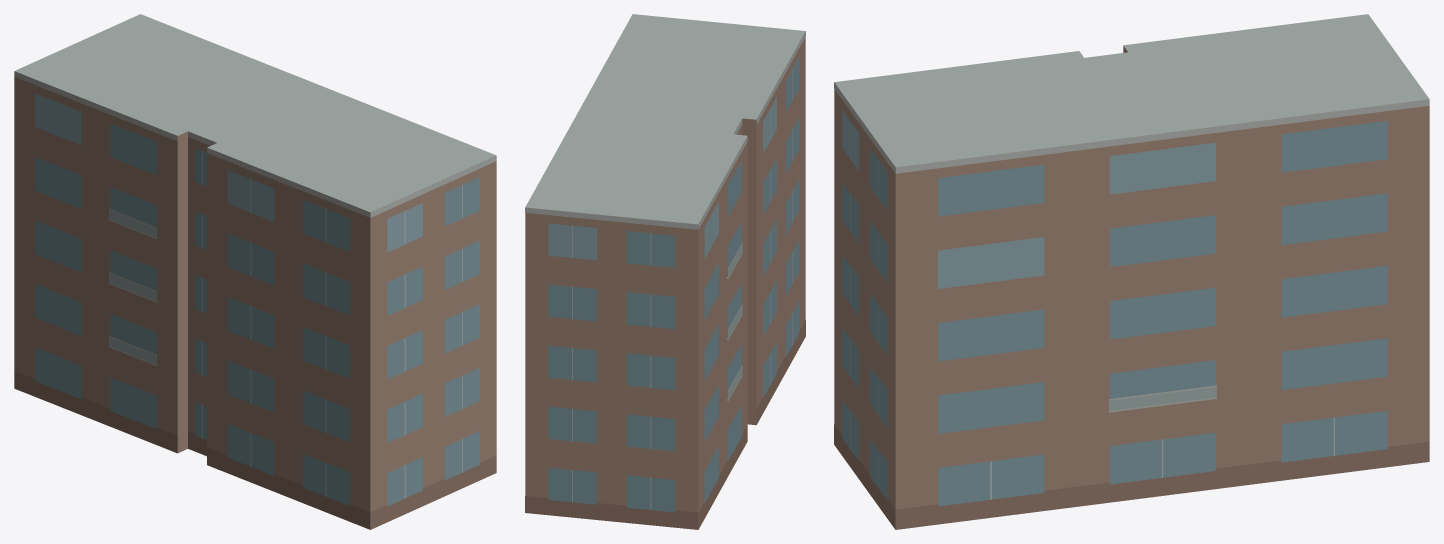
File: survey-upis-32620515.glb
3 renders of one model, left to right at view 1: azimuth 30°, elevation 25°; view 2: azimuth 150°, elevation 25°; view 3: azimuth 270°, elevation 25°, orthographic. The views are drawn at different scales.
Parts seen in each view (by area): view 1: survey-upis-32620515.tmp; view 2: survey-upis-32620515.tmp; view 3: survey-upis-32620515.tmp.
Boxes of the visible parts, left/top/right/bottom form: survey-upis-32620515.tmp: left=14, top=14, right=496, bottom=529; survey-upis-32620515.tmp: left=525, top=14, right=805, bottom=529; survey-upis-32620515.tmp: left=834, top=14, right=1429, bottom=529.
Bounding box in the file's own units: 12.63 × 13.9 × 20.71.
